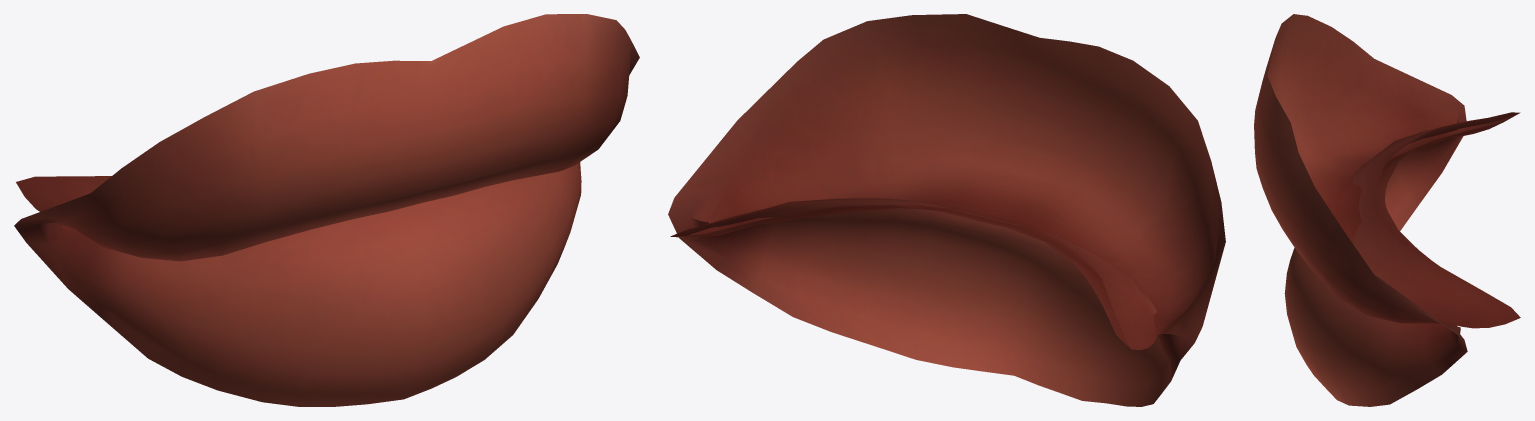
The model's file is LipsStencil.fbx.
3 renders of one model, left to right at view 1: azimuth 30°, elevation 25°; view 2: azimuth 150°, elevation 25°; view 3: azimuth 270°, elevation 25°, orthographic. The views are drawn at different scales.
Parts seen in each view (by area): view 1: LipStencilNew; view 2: LipStencilNew; view 3: LipStencilNew.
Boxes of the visible parts, bbox=[...] form: LipStencilNew: bbox=[14, 14, 639, 406]; LipStencilNew: bbox=[668, 14, 1225, 406]; LipStencilNew: bbox=[1254, 14, 1520, 406].
Bounding box in the file's own units: 0.0367 × 0.0219 × 0.0176.
